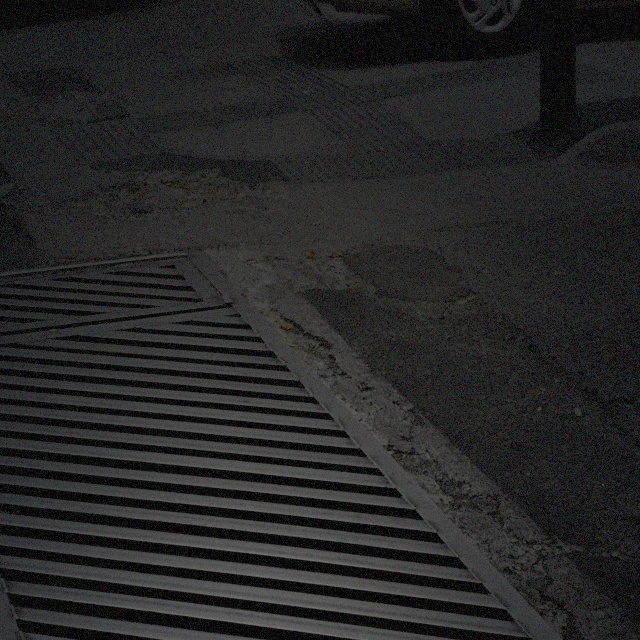pothole: (276, 308, 340, 374), (436, 468, 500, 528)
